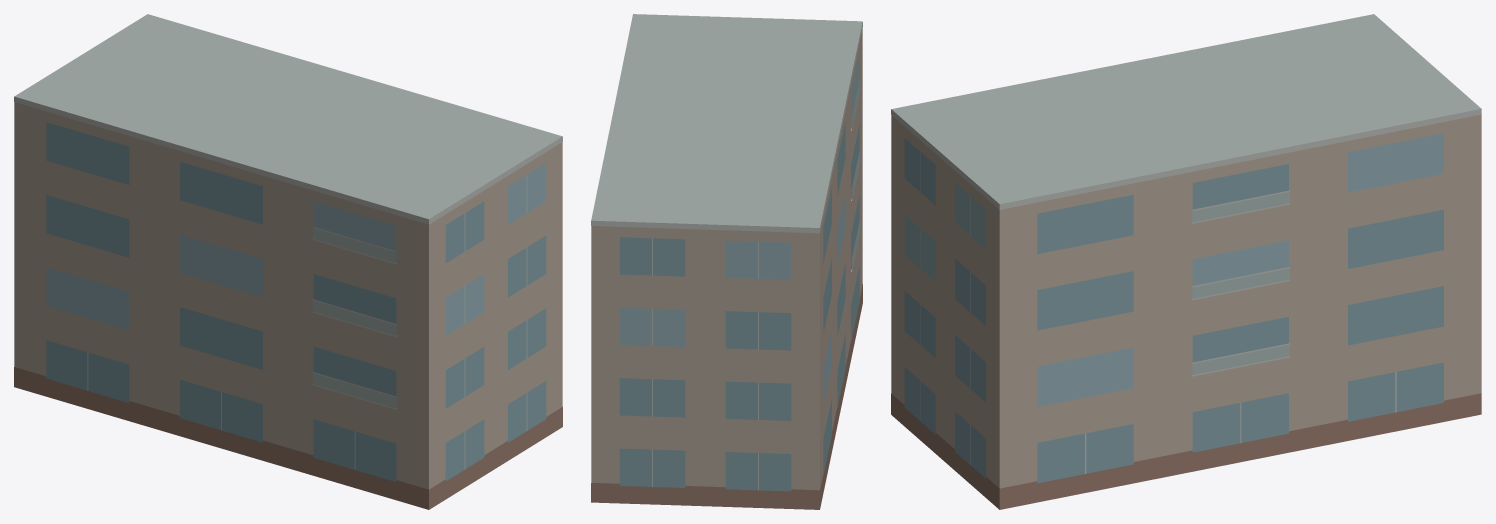
Rendered from survey-upis-32907317.glb.
3 renders of one model, left to right at view 1: azimuth 30°, elevation 25°; view 2: azimuth 150°, elevation 25°; view 3: azimuth 270°, elevation 25°, orthographic. The views are drawn at different scales.
Visible parts, largest first — view 1: survey-upis-32907317.tmp; view 2: survey-upis-32907317.tmp; view 3: survey-upis-32907317.tmp.
Boxes of the visible parts, x1=… form: survey-upis-32907317.tmp: x1=14, y1=14, x2=562, y2=509; survey-upis-32907317.tmp: x1=591, y1=14, x2=862, y2=509; survey-upis-32907317.tmp: x1=891, y1=14, x2=1481, y2=509.
Bounding box in the file's own units: 17.46 × 13.07 × 22.9.
